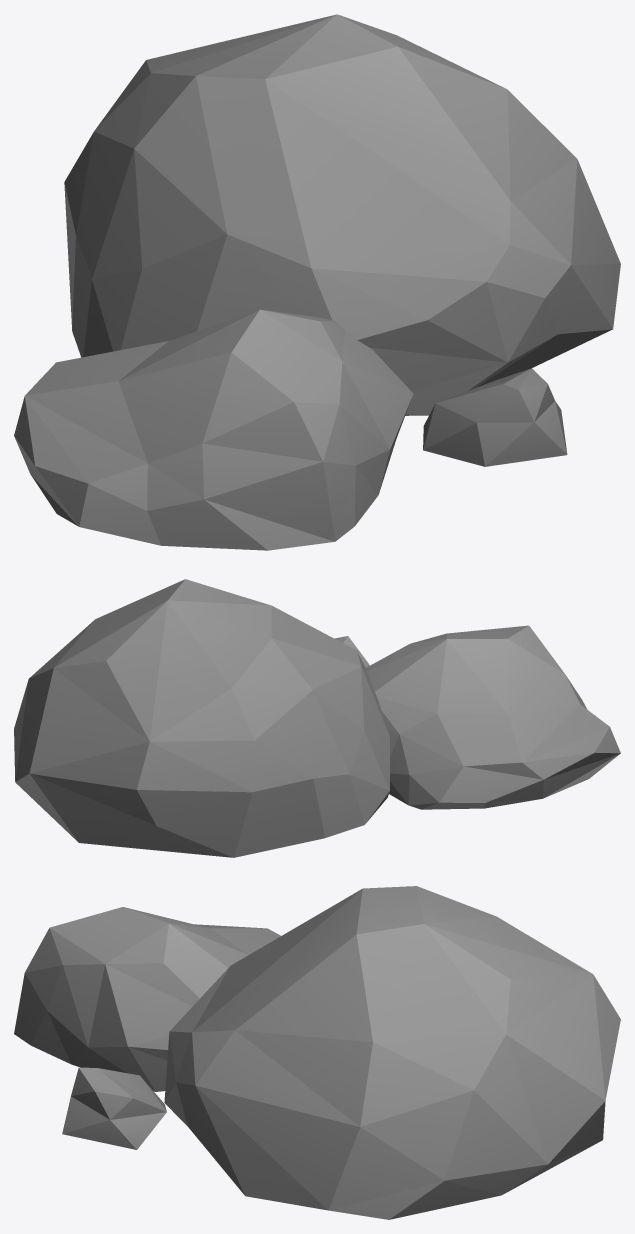
Rendered from Stone_group_average1.fbx.
3 renders of one model, top to bottom at view 1: azimuth 30°, elevation 25°; view 2: azimuth 150°, elevation 25°; view 3: azimuth 270°, elevation 25°, orthographic. The views are drawn at different scales.
Visible parts, largest first — view 1: Stone_group_average; view 2: Stone_group_average; view 3: Stone_group_average.
Part boxes in pixels (x1,y1,x2,y2): Stone_group_average: [14, 14, 620, 550]; Stone_group_average: [14, 579, 620, 857]; Stone_group_average: [14, 886, 620, 1219].
Bounding box in the file's own units: 294 × 111 × 290.
